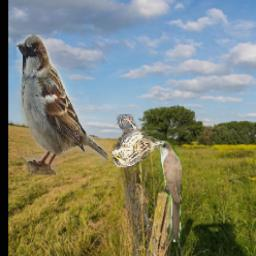Cuckoo: (153, 141, 183, 242)
Sparrow: (18, 35, 109, 175), (110, 114, 164, 167)
